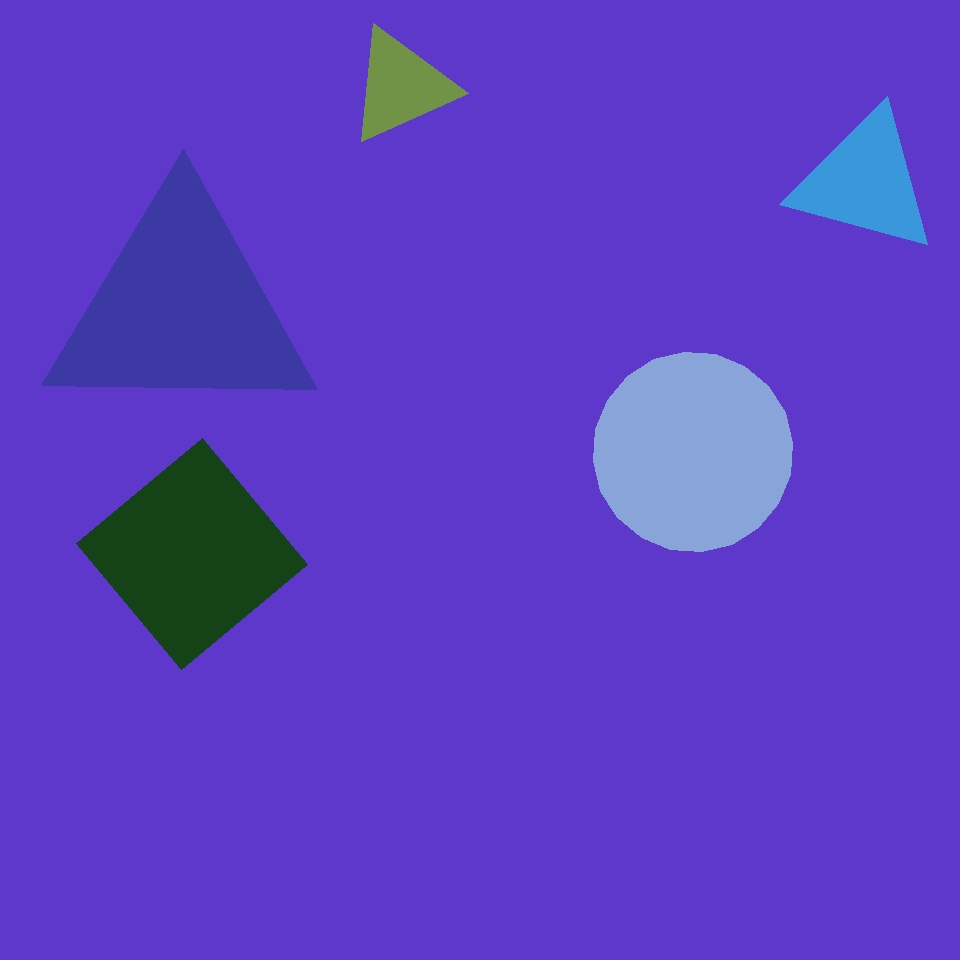circle: (43, 188, 319, 428), (791, 108, 939, 256), (348, 27, 454, 145)
square: (77, 438, 308, 670)
triangle: (594, 352, 792, 552)
